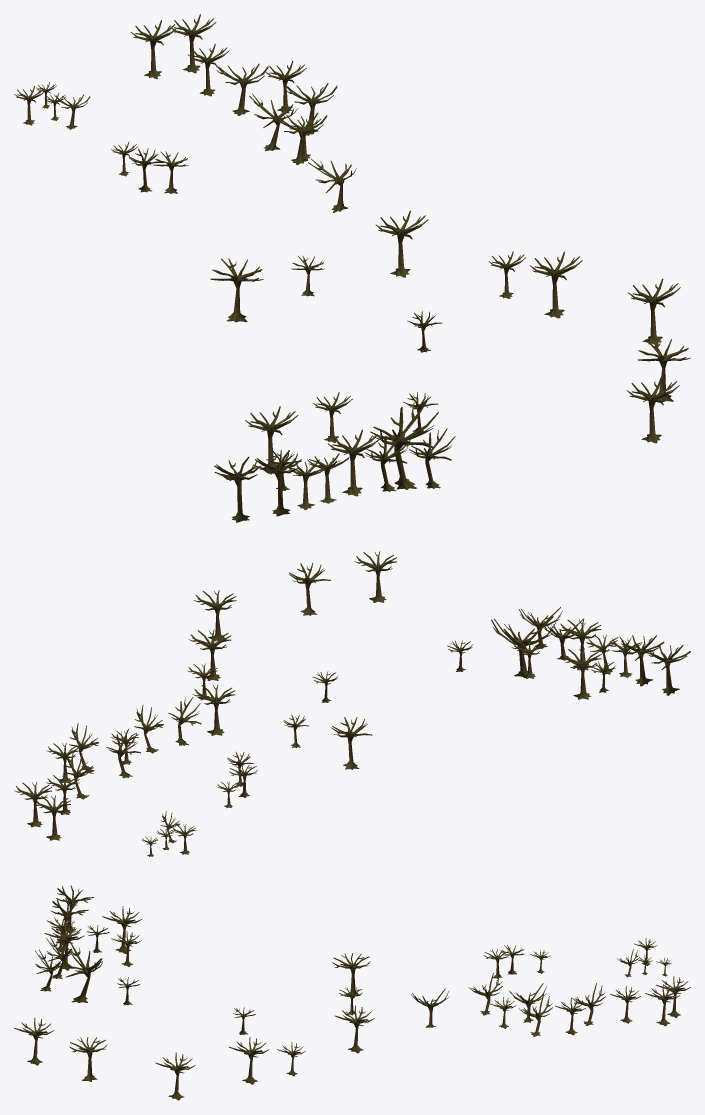
The model's file is Trees1.FBX.
3 renders of one model, top to bottom at view 1: azimuth 30°, elevation 25°; view 2: azimuth 150°, elevation 25°; view 3: azimuth 270°, elevation 25°, orthographic. The views are drawn at different scales.
Visible parts, largest first — view 1: Tree:Tree099; view 2: Tree:Tree099; view 3: Tree:Tree099.
Boxes of the visible parts, x1,y1,x2,y2 form: Tree:Tree099: (14,14,690,522); Tree:Tree099: (14,551,690,856); Tree:Tree099: (14,885,690,1100).
Size of the model in its own units: 333 by 69.43 by 512.
